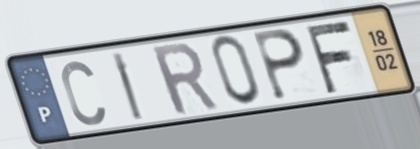0: (209, 33, 264, 110)
C: (58, 58, 109, 129)
F: (301, 18, 354, 97)
I: (109, 50, 147, 124)
P: (250, 27, 309, 103)
R: (147, 40, 222, 119)
